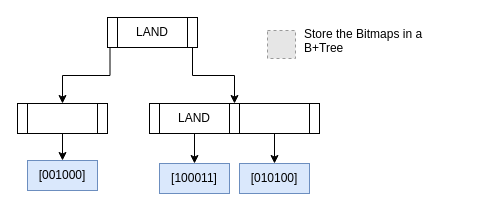
The diagram is 480 pixels wide and 211 high, and some of its shapes have lost their labels. Grey dashed boxes stand in for pictures. The shapes that lost their labels are listed below. From the top down, each one's centre as x and y in pixels, then its label:
At [62,118]: "AERIAL".
At [274,118]: "WATER".
